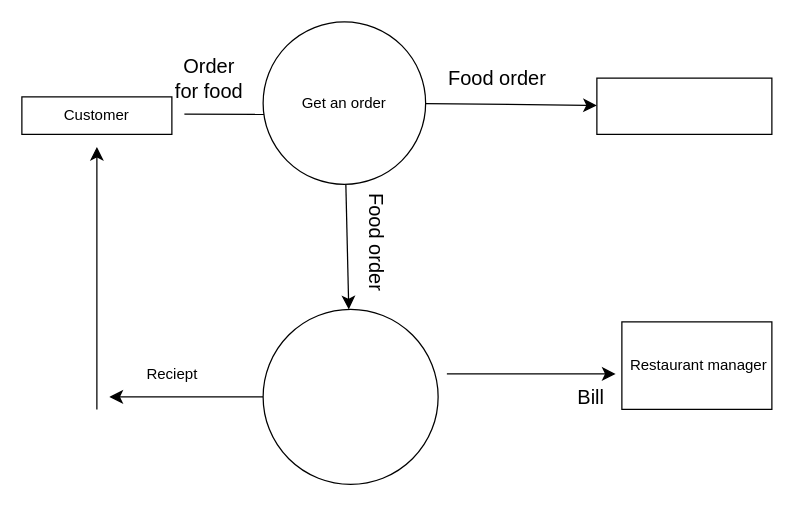
This 794x506 diagram has some shape labels left out. Here are the shapes that lost their labels. From the top down, the centre of each, then its label:
At [684,105]: "Kitchen".
At [350,396]: "Prepare the bill".
